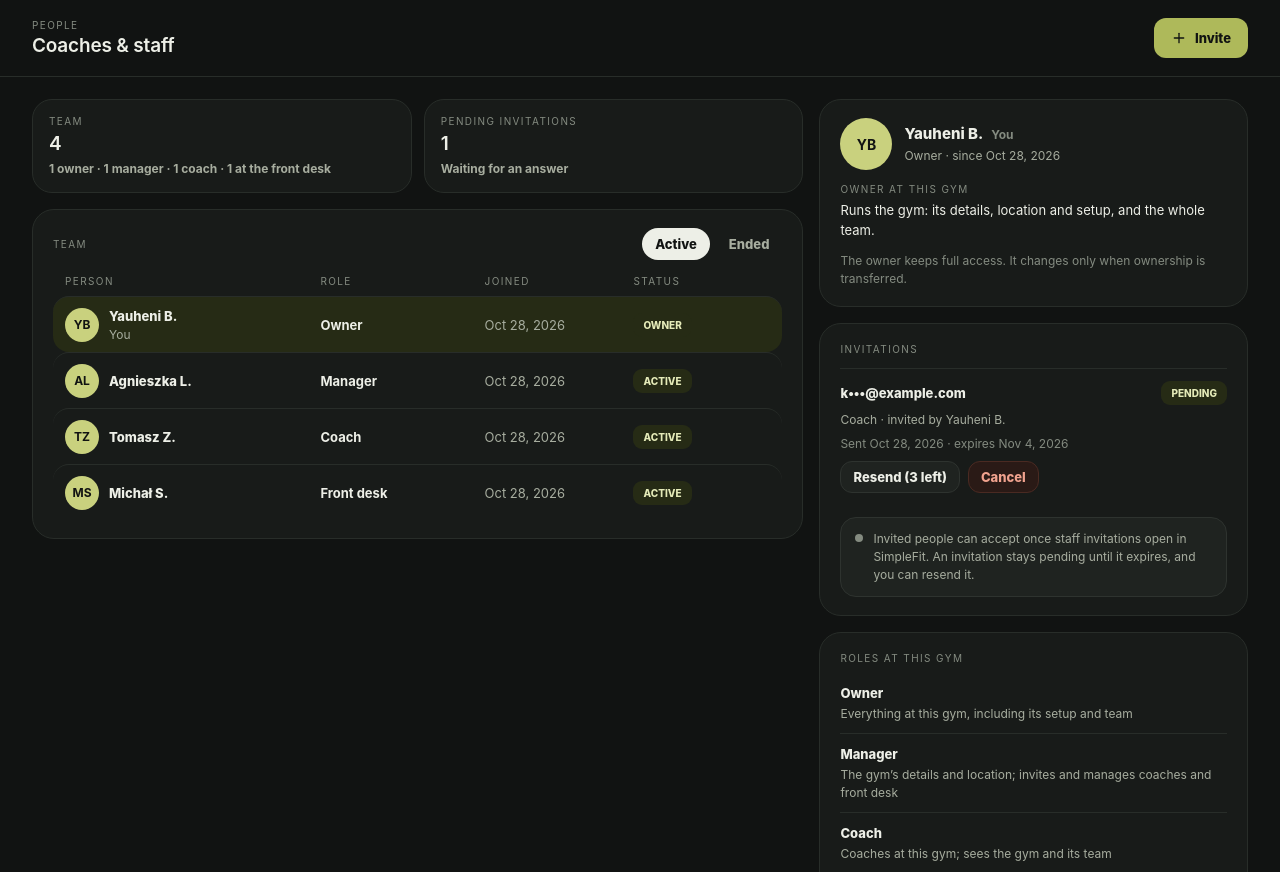
GymStaff (WG16, SF-94) › changes a role only after the backend answers, and says a refusal
The width and height of the screenshot is (1280, 872).
expect the table named "Active staff" is shown: met, box [53,274,782,520]
Click the button with aria-label "Show Tomasz Z." at (142, 436), box [109,426,176,446]
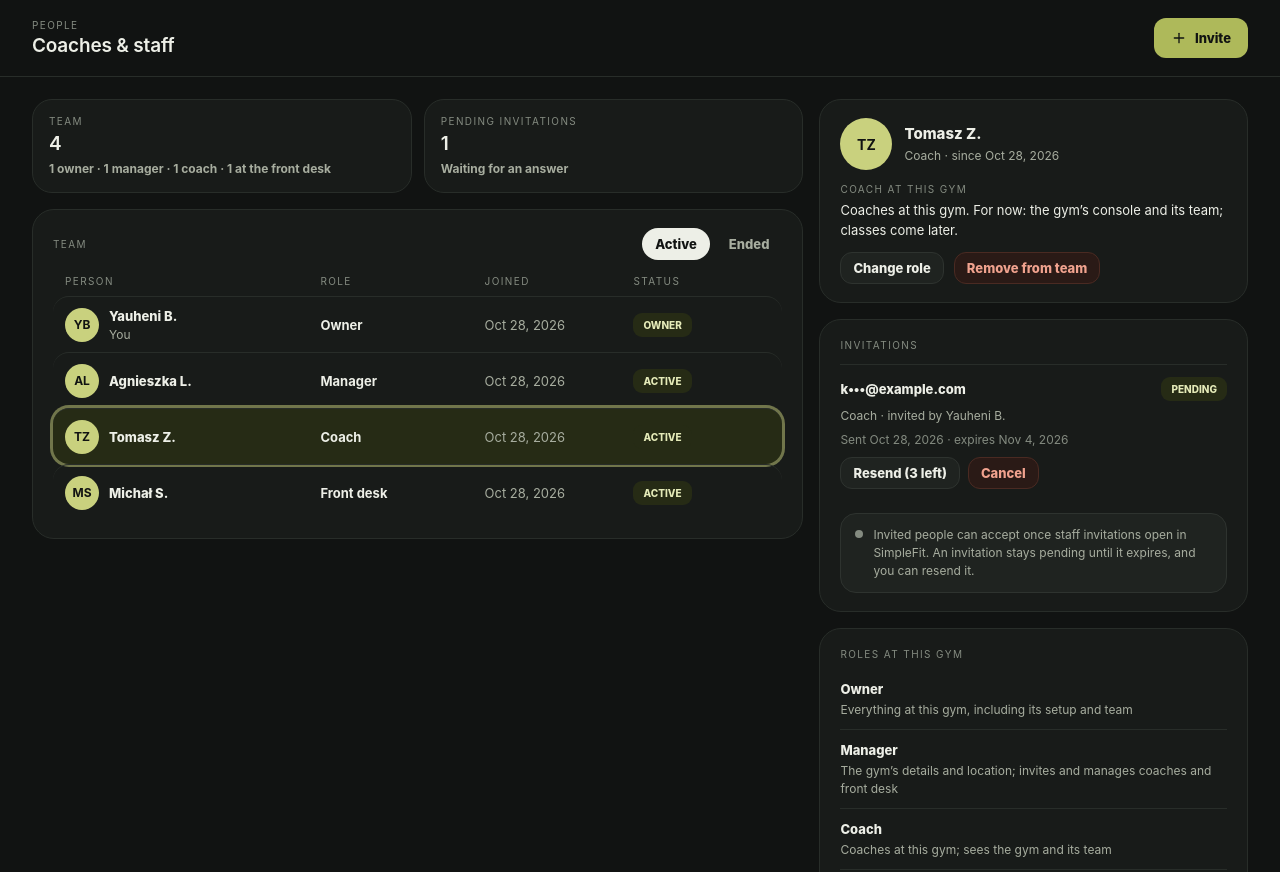
Click the button "Change role" at (892, 268), box [840,252,944,284]
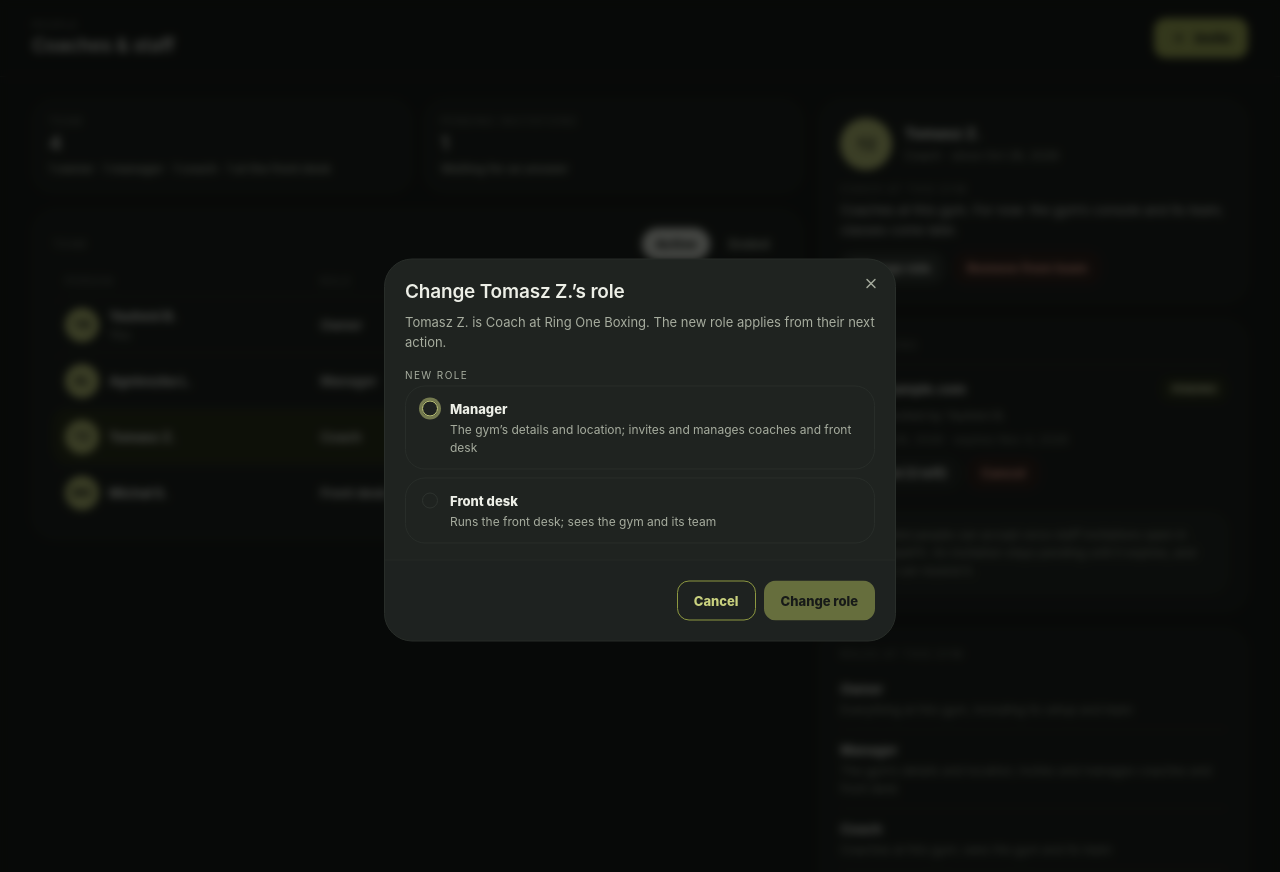
expect the button "Change role" is disabled: met, box [764,580,875,620]
Click the 1st radio button named "Manager" at (430, 408), box [422,400,438,416]
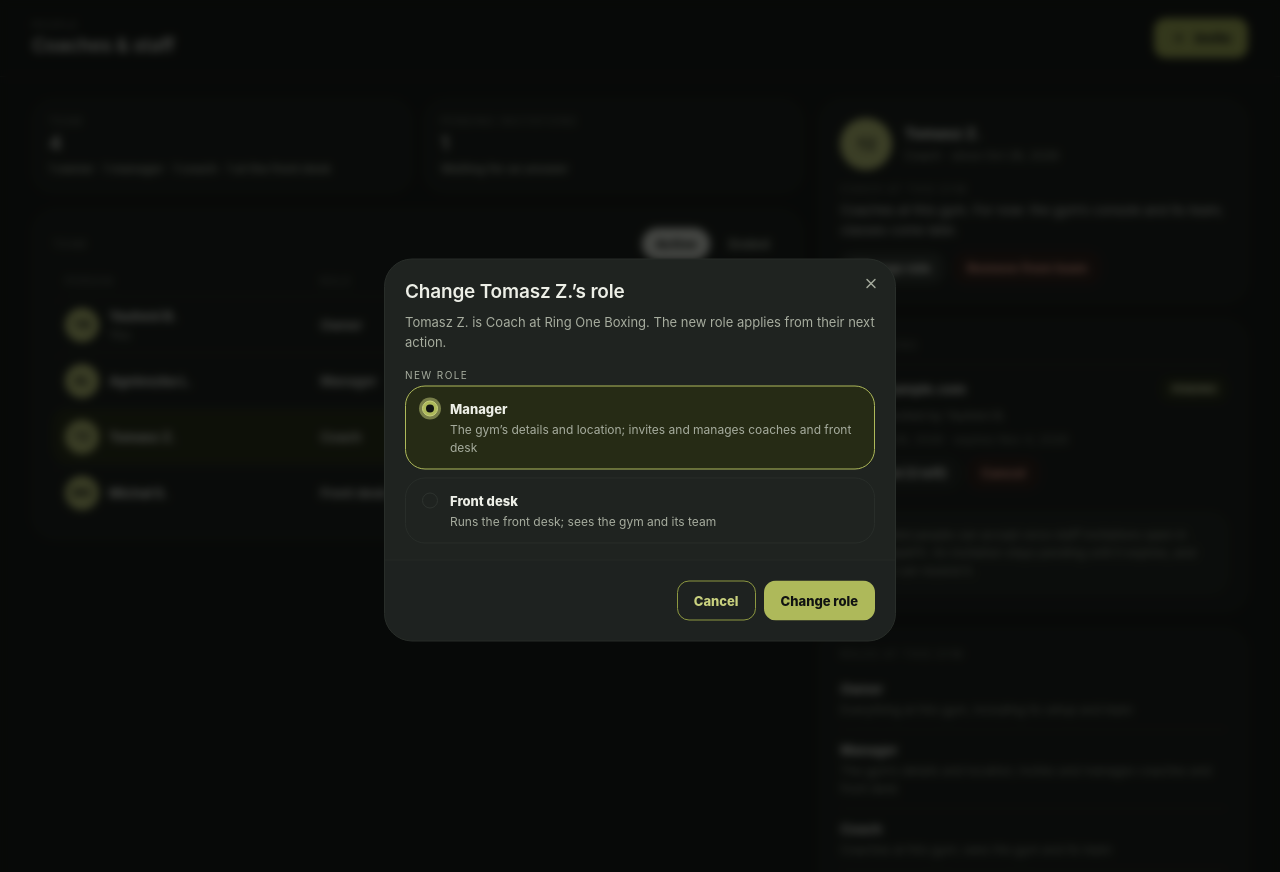
Click the button "Change role" at (819, 600), box [764,580,875,620]
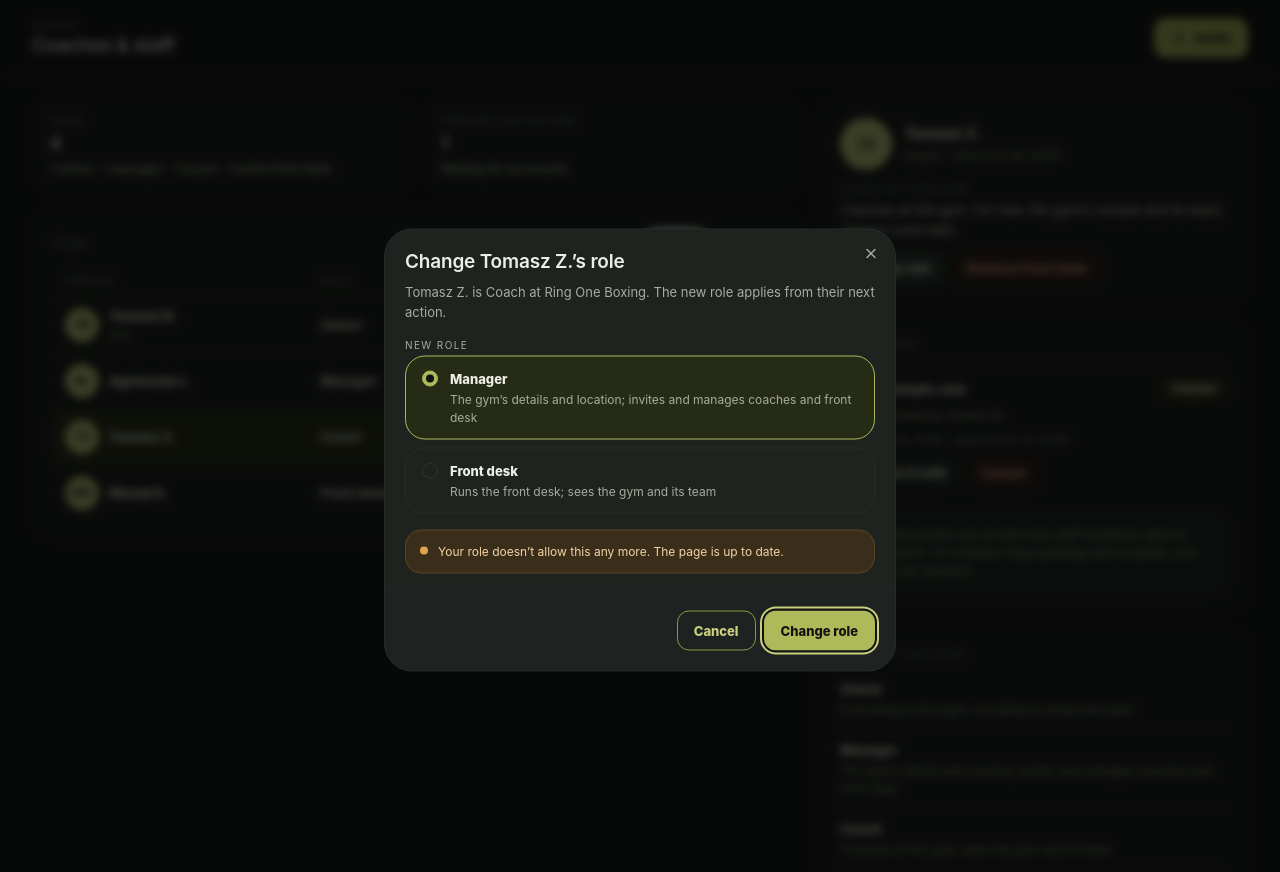
expect the message shows "doesn’t allow this any more": met, box [438,544,784,558]
Click the button "Change role" at (819, 630), box [764,610,875,650]
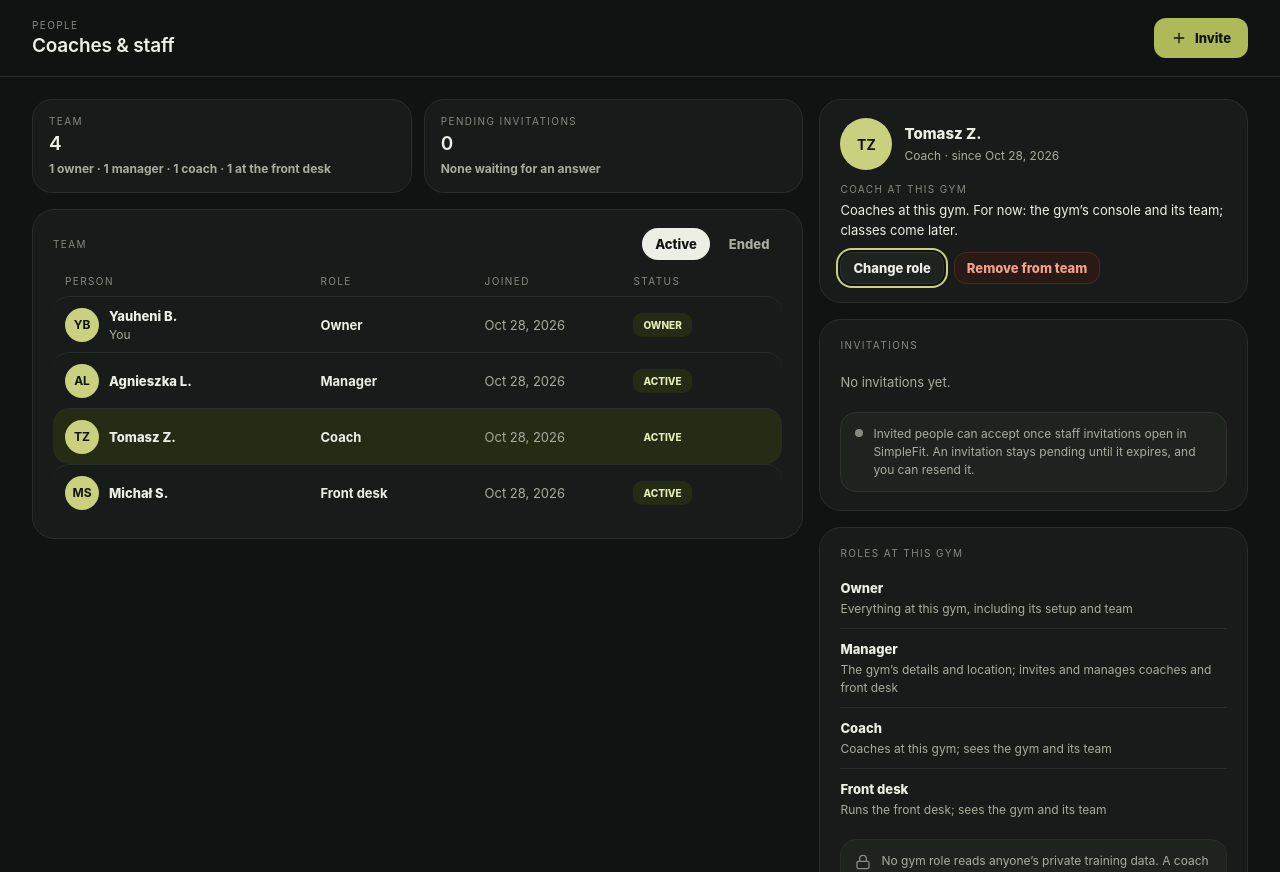
expect the dialog is gone: met
